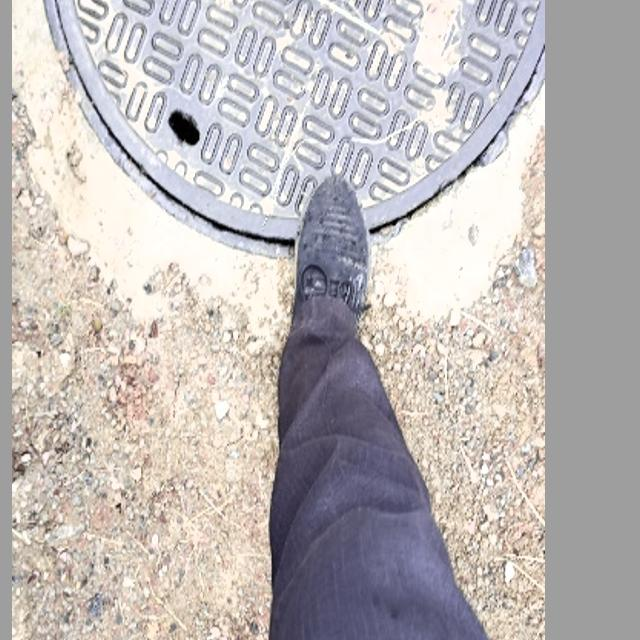good: (38, 0, 543, 263)
